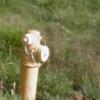Hydrant: (11, 27, 54, 100)
